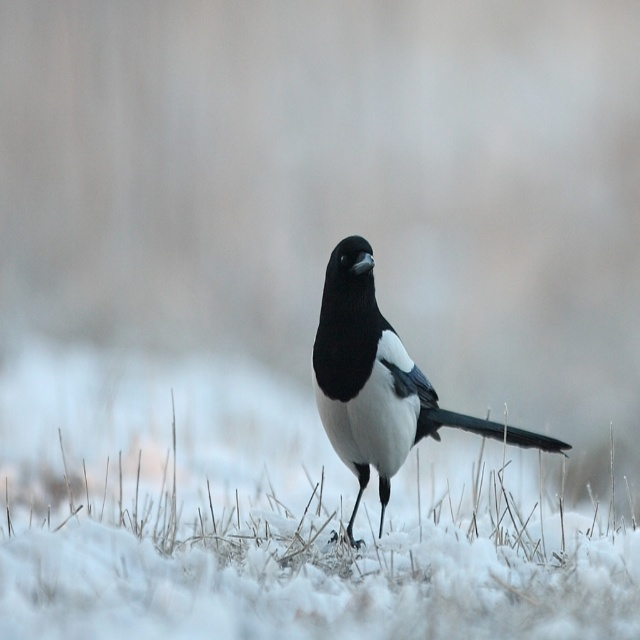Magpie: (312, 236, 573, 549)
